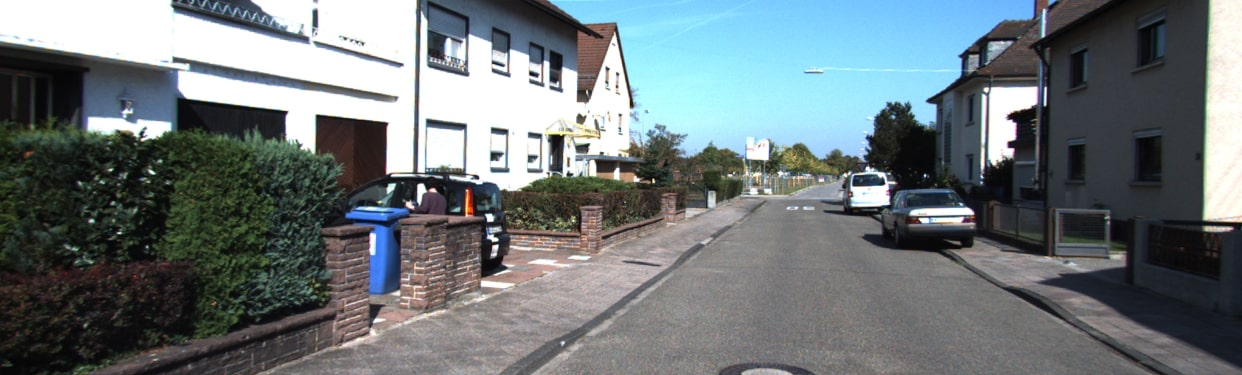car: (873, 185, 984, 246), (840, 172, 893, 214)
person: (408, 176, 453, 213)
